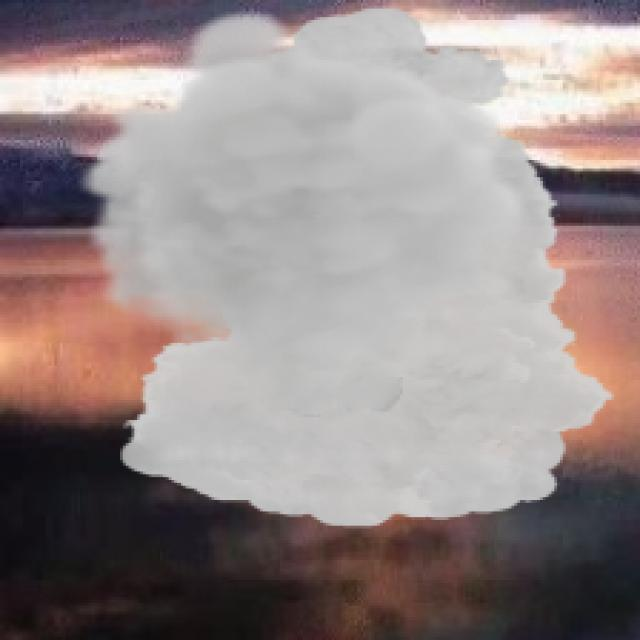smoke: (77, 6, 617, 528)
